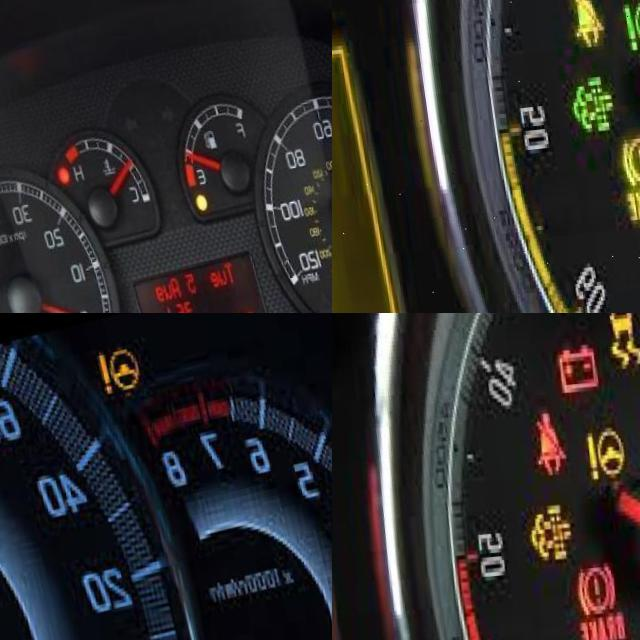Electronic Power Steering: (574, 436, 623, 490), (94, 348, 139, 403)
Seat Belt: (558, 0, 600, 59), (524, 417, 559, 479)
